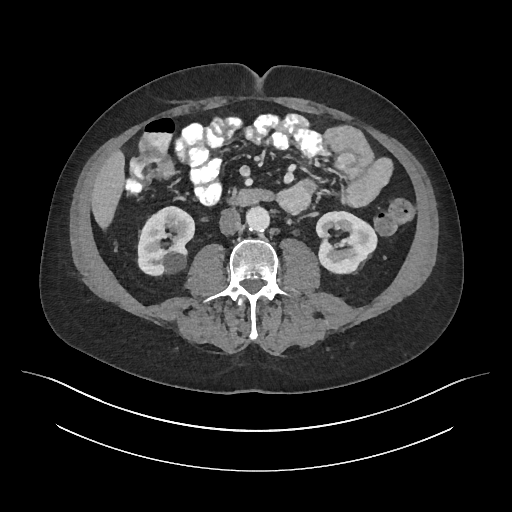Lesion: (160, 250, 190, 277)
